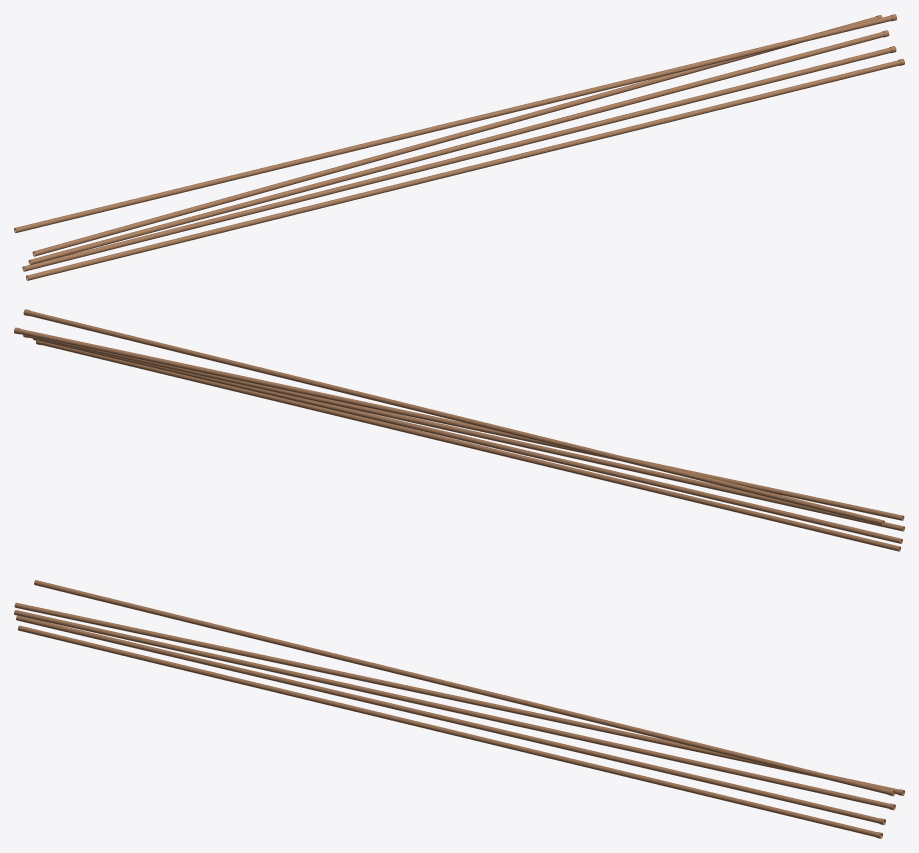
Rendered from HID-AGF-003_anim.glb.
3 renders of one model, top to bottom at view 1: azimuth 30°, elevation 25°; view 2: azimuth 150°, elevation 25°; view 3: azimuth 330°, elevation 25°, orthographic. The views are drawn at different scales.
Visible parts, largest first — view 1: HID-AGF-003_anim4, HID-AGF-003_anim0, HID-AGF-003_anim1, HID-AGF-003_anim2, HID-AGF-003_anim3; view 2: HID-AGF-003_anim4, HID-AGF-003_anim0, HID-AGF-003_anim1, HID-AGF-003_anim3, HID-AGF-003_anim2; view 3: HID-AGF-003_anim2, HID-AGF-003_anim1, HID-AGF-003_anim0, HID-AGF-003_anim4, HID-AGF-003_anim3.
Boxes of the visible parts, x1=… form: HID-AGF-003_anim4: x1=14, y1=14, x2=896, y2=232; HID-AGF-003_anim0: x1=26, y1=59, x2=904, y2=280; HID-AGF-003_anim1: x1=22, y1=46, x2=896, y2=271; HID-AGF-003_anim2: x1=28, y1=30, x2=889, y2=264; HID-AGF-003_anim3: x1=32, y1=15, x2=882, y2=256; HID-AGF-003_anim4: x1=23, y1=309, x2=884, y2=525; HID-AGF-003_anim0: x1=36, y1=340, x2=900, y2=551; HID-AGF-003_anim1: x1=33, y1=338, x2=902, y2=543; HID-AGF-003_anim3: x1=14, y1=327, x2=904, y2=520; HID-AGF-003_anim2: x1=23, y1=335, x2=904, y2=531; HID-AGF-003_anim2: x1=14, y1=610, x2=895, y2=810; HID-AGF-003_anim1: x1=16, y1=615, x2=885, y2=824; HID-AGF-003_anim0: x1=18, y1=625, x2=882, y2=838; HID-AGF-003_anim4: x1=34, y1=580, x2=895, y2=796; HID-AGF-003_anim3: x1=14, y1=602, x2=904, y2=795.
Bounding box in the file's own units: 6.03 × 0.2761 × 0.3914.
